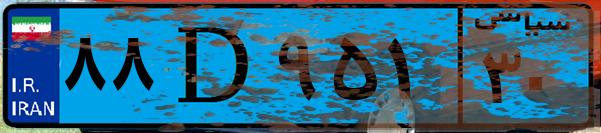0: (525, 38, 570, 115)
1: (385, 28, 445, 110)
3: (475, 38, 525, 113)
5: (330, 28, 385, 110)
8: (57, 26, 110, 100), (110, 28, 158, 98)
9: (270, 28, 330, 110)
D: (158, 12, 270, 120)
